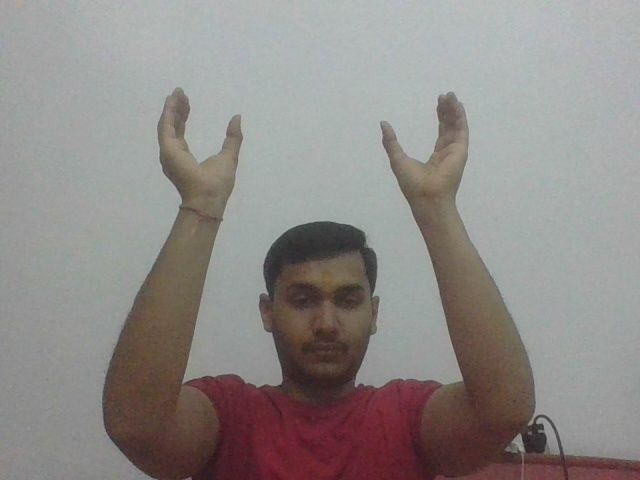U: (151, 84, 249, 208), (376, 89, 478, 203)
